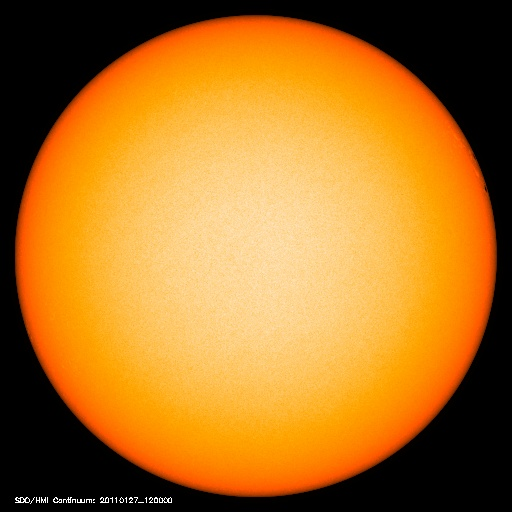sunspot: (463, 143, 500, 199)
